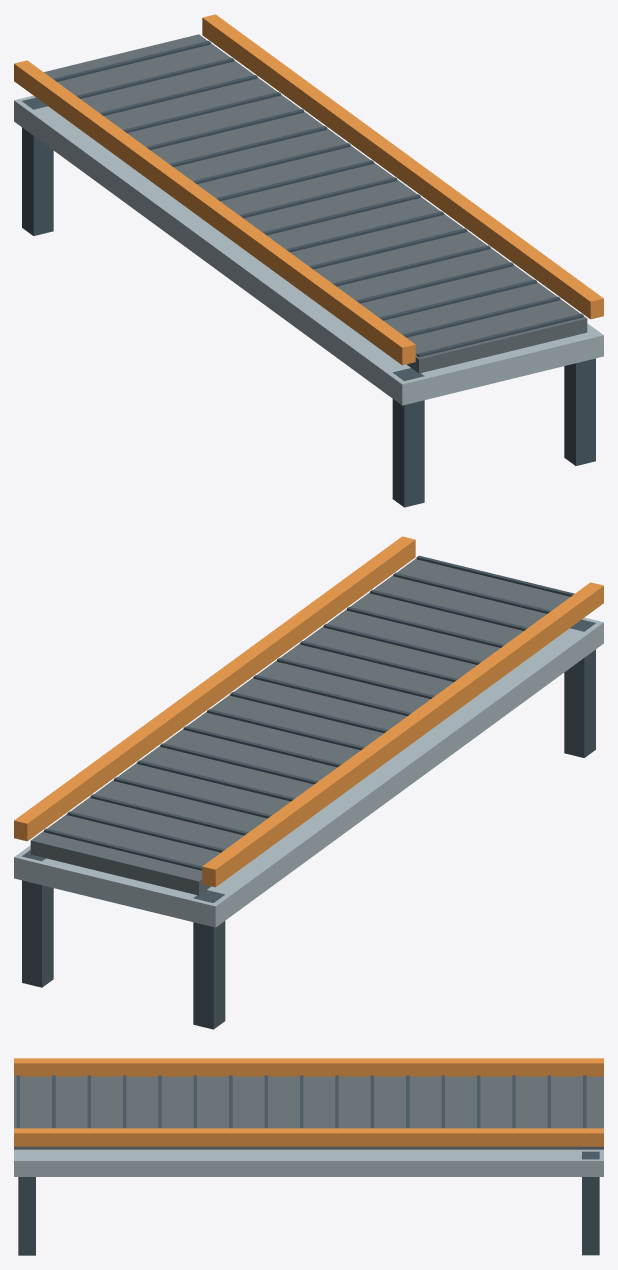
File: long-span-conveyor.glb
3 renders of one model, top to bottom at view 1: azimuth 30°, elevation 25°; view 2: azimuth 150°, elevation 25°; view 3: azimuth 270°, elevation 25°, orthographic. The views are drawn at different scales.
Parts seen in each view (by area): view 1: rubber, orange, dark, steel; view 2: rubber, orange, dark, steel; view 3: rubber, orange, steel, dark.
Part boxes in pixels (box(x1,y1,x2,y2)): rubber: box(44, 34, 587, 373); orange: box(14, 14, 603, 365); dark: box(22, 40, 595, 507); steel: box(14, 95, 603, 405); rubber: box(30, 558, 569, 895); orange: box(14, 536, 603, 887); dark: box(22, 555, 595, 1029); steel: box(14, 617, 603, 927); rubber: box(14, 1076, 603, 1149); orange: box(14, 1058, 603, 1146); steel: box(14, 1149, 603, 1176); dark: box(16, 1075, 599, 1255).
Bounding box in the file's own units: 1.2 × 0.93 × 4.
